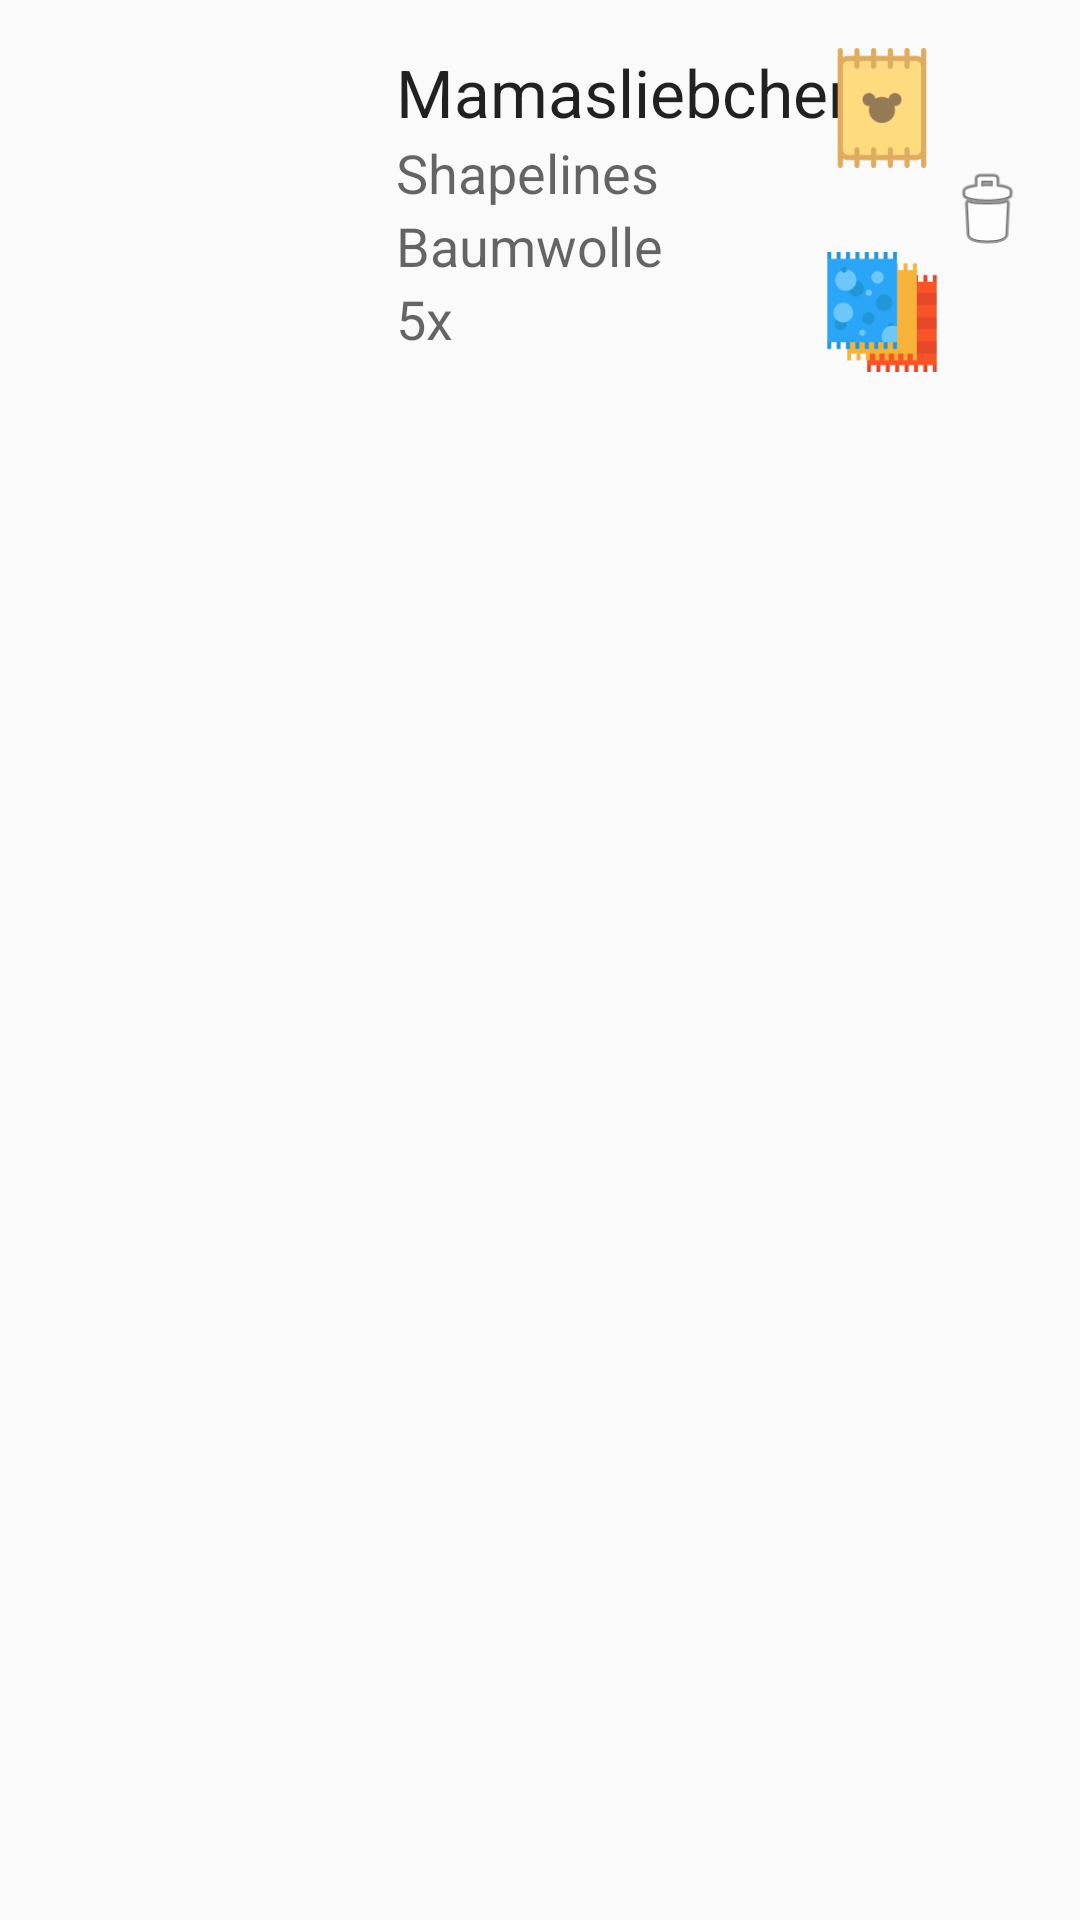

Icon bounding boxes for this 1080w x 1920h phone screenshot, format (x1, y1, x2, y2):
ansicht stoffe: (827, 252, 937, 372)
delete: (962, 173, 1013, 244)
